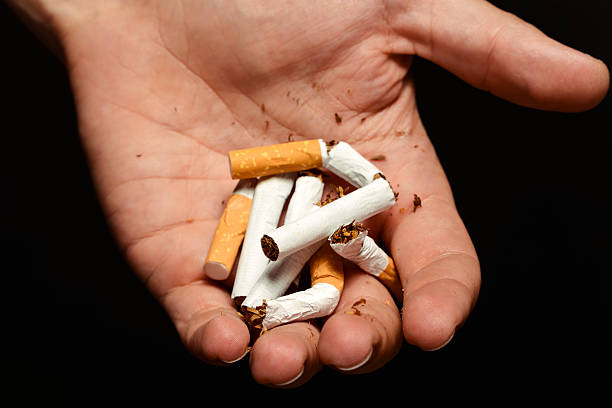cigarette: (240, 191, 346, 320), (260, 177, 400, 263), (230, 168, 300, 305), (245, 238, 345, 333), (226, 138, 403, 189), (201, 175, 259, 283), (329, 221, 403, 298), (284, 171, 325, 226)
